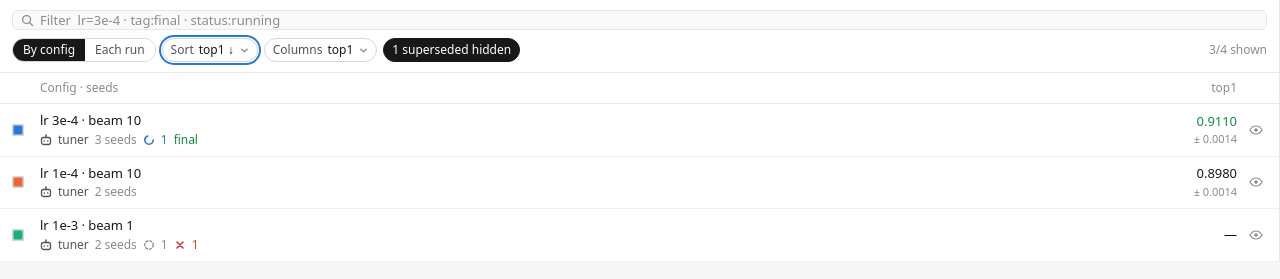
Test: RunsSidebar › a menu takes focus: first item on open, arrows move, Escape returns to the chip
The image size is (1280, 279).
Click the button "Sort top1 ↓" at (210, 50), box left=162, top=38, right=258, bottom=62
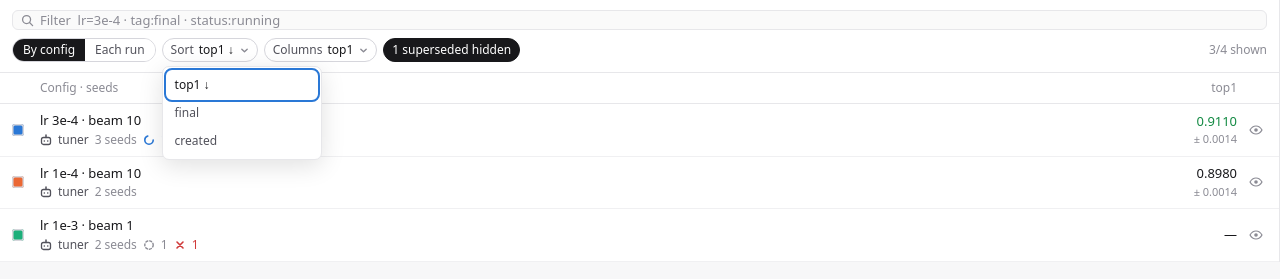
Press ArrowDown in the menu item "top1 ↓", box left=167, top=71, right=317, bottom=99
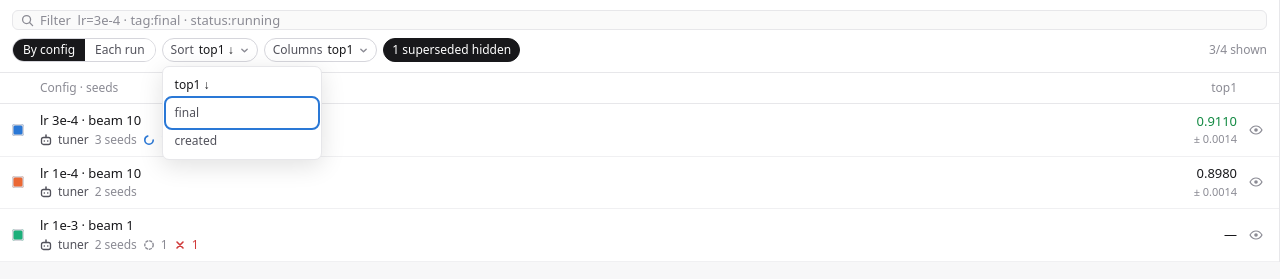
Press ArrowUp in the menu item "final", box left=167, top=99, right=317, bottom=127
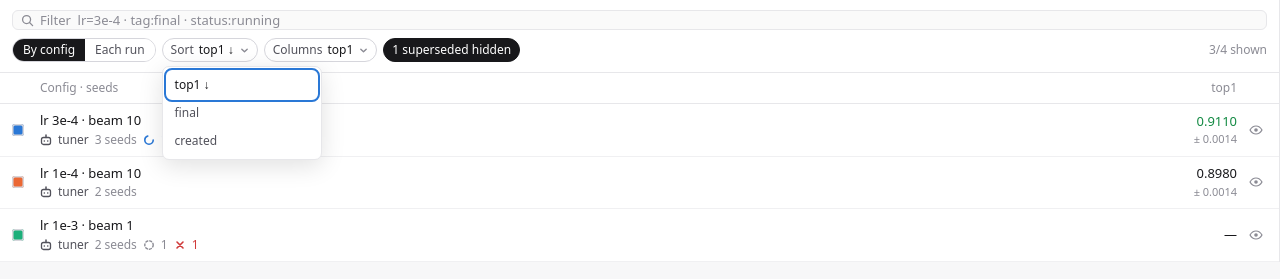
Press ArrowUp in the menu item "top1 ↓", box left=167, top=71, right=317, bottom=99
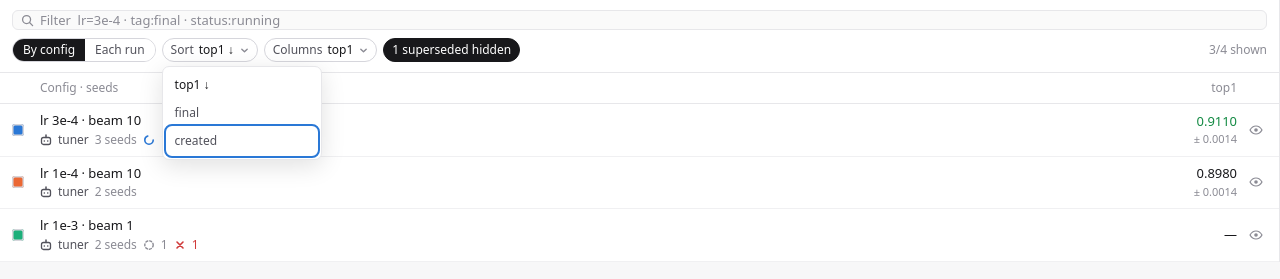
Press Escape in the menu item "created", box left=167, top=127, right=317, bottom=155
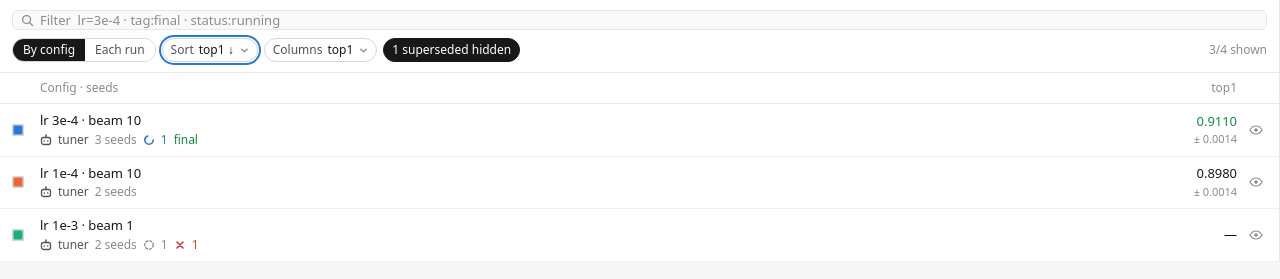
Result: the menu is gone
